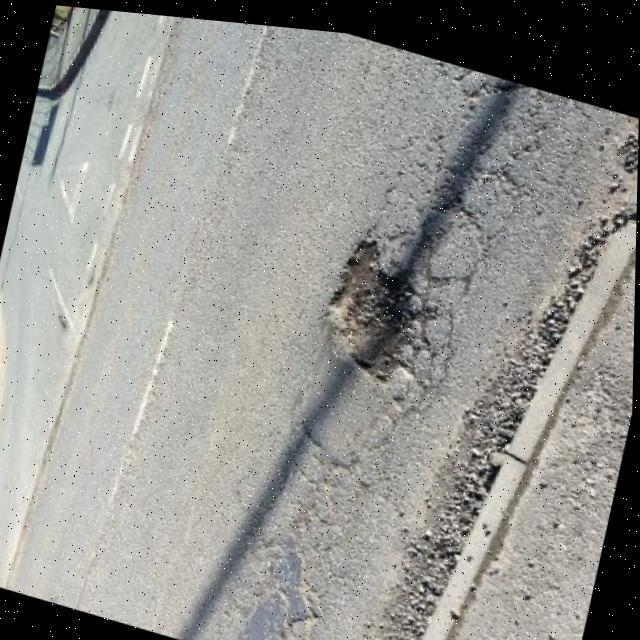Pothole: (323, 235, 429, 387)
